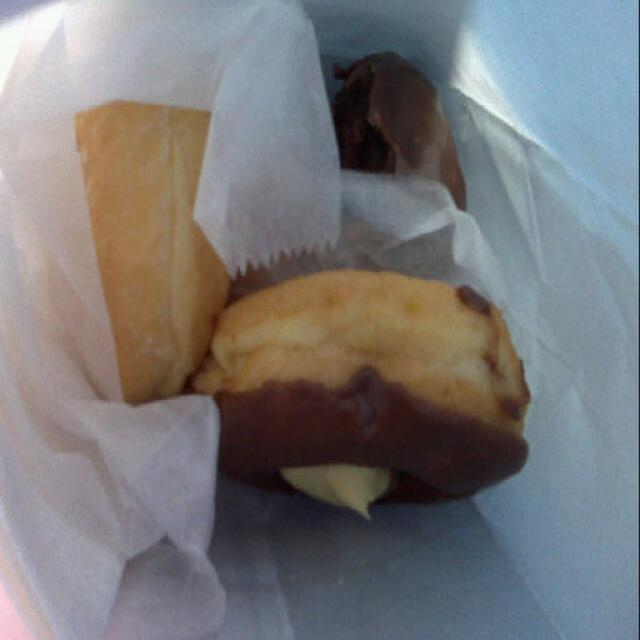Donuts: (56, 48, 574, 554)
